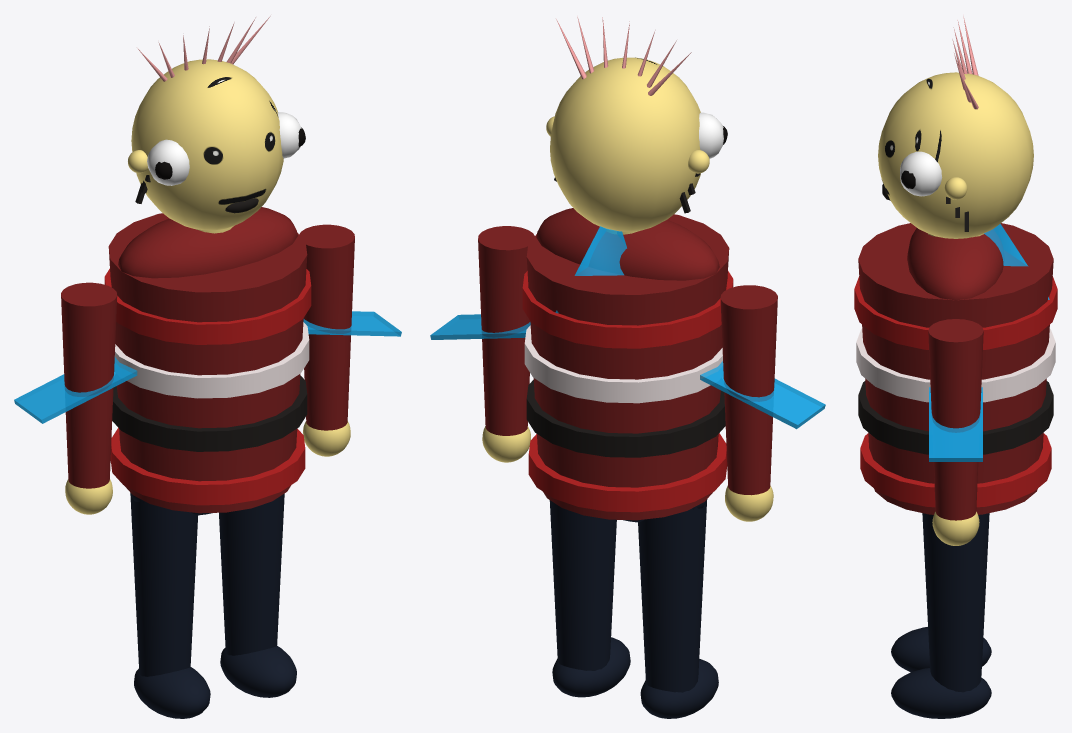
The model's file is glbfactory-lionfish.glb.
The picture shows the model from 3 angles, left to right: view 1: azimuth 30°, elevation 25°; view 2: azimuth 150°, elevation 25°; view 3: azimuth 270°, elevation 25°; orthographic projection. The views are drawn at different scales.
Parts seen in each view (by area): view 1: torso, skull, left-leg-mesh, left-arm-mesh, right-arm-mesh, right-leg-mesh, chest-top, stripe-band-3, stripe-band-2, stripe-band-0, stripe-band-1, fins (+6 smaller); view 2: torso, skull, left-leg-mesh, left-arm-mesh, right-leg-mesh, right-arm-mesh, chest-top, fins, stripe-band-3, stripe-band-2, stripe-band-0, stripe-band-1 (+5 smaller); view 3: torso, skull, right-leg-mesh, right-arm-mesh, chest-top, stripe-band-3, stripe-band-1, stripe-band-2, stripe-band-0, right-shoe, fins, left-shoe (+3 smaller).
Part boxes in pixels (left/top/right/bottom): torso: left=108, top=213, right=307, bottom=513; skull: left=131, top=59, right=283, bottom=230; left-leg-mesh: left=130, top=493, right=198, bottom=676; left-arm-mesh: left=61, top=282, right=117, bottom=488; right-arm-mesh: left=299, top=224, right=354, bottom=430; right-leg-mesh: left=219, top=493, right=284, bottom=655; chest-top: left=118, top=207, right=297, bottom=278; stripe-band-3: left=110, top=427, right=305, bottom=505; stripe-band-2: left=112, top=375, right=307, bottom=451; stripe-band-0: left=104, top=268, right=311, bottom=344; stripe-band-1: left=114, top=322, right=309, bottom=398; fins: left=14, top=311, right=401, bottom=423; torso: left=526, top=214, right=729, bottom=520; skull: left=550, top=57, right=700, bottom=231; left-leg-mesh: left=638, top=499, right=707, bottom=692; left-arm-mesh: left=720, top=285, right=777, bottom=495; right-leg-mesh: left=549, top=500, right=616, bottom=670; right-arm-mesh: left=478, top=226, right=534, bottom=435; chest-top: left=536, top=208, right=719, bottom=280; fins: left=430, top=226, right=825, bottom=429; stripe-band-3: left=528, top=433, right=727, bottom=512; stripe-band-2: left=526, top=380, right=725, bottom=457; stripe-band-0: left=522, top=271, right=733, bottom=348; stripe-band-1: left=524, top=325, right=722, bottom=403; torso: left=858, top=223, right=1053, bottom=514; skull: left=878, top=72, right=1033, bottom=238; right-leg-mesh: left=922, top=513, right=989, bottom=692; right-arm-mesh: left=928, top=319, right=983, bottom=520; chest-top: left=907, top=228, right=1004, bottom=300; stripe-band-3: left=860, top=433, right=1051, bottom=507; stripe-band-1: left=856, top=328, right=1055, bottom=402; stripe-band-2: left=858, top=381, right=1053, bottom=454; stripe-band-0: left=854, top=276, right=1057, bottom=349; right-shoe: left=891, top=668, right=991, bottom=718; fins: left=929, top=224, right=1049, bottom=461; left-shoe: left=891, top=627, right=991, bottom=672.
Bounding box in the file's own units: 2.5 × 4.45 × 1.25.
Materials: 15 (1 with a texture image).
